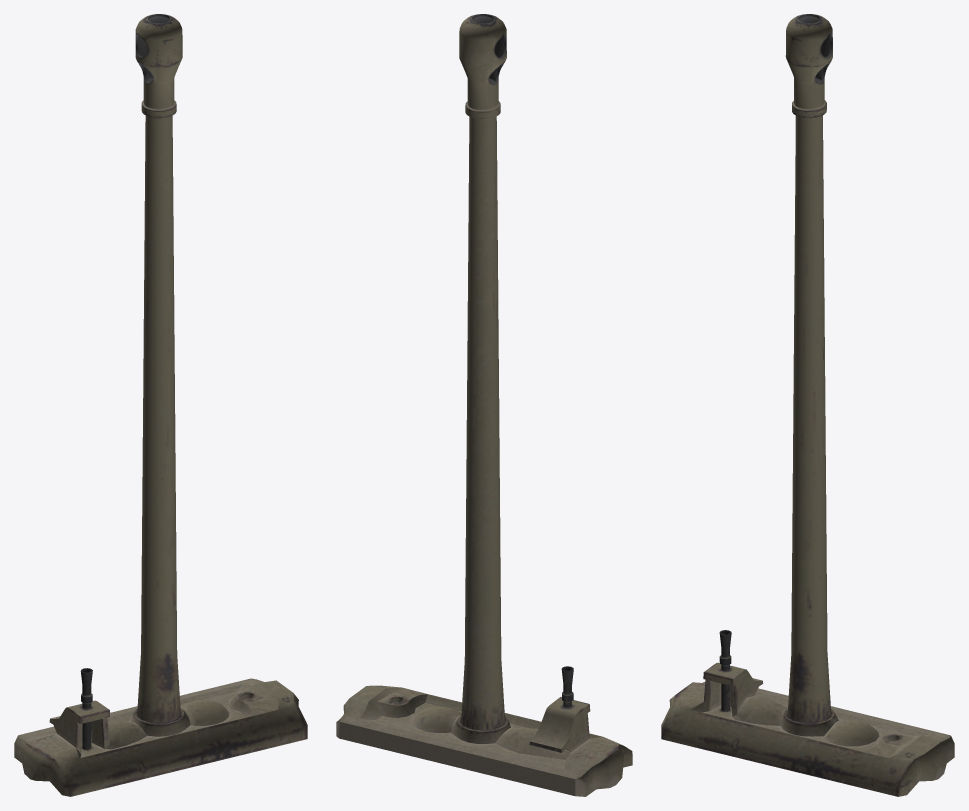
File: Gun_02.glb
The picture shows the model from 3 angles, left to right: view 1: azimuth 30°, elevation 25°; view 2: azimuth 150°, elevation 25°; view 3: azimuth 330°, elevation 25°; orthographic projection.
Visible parts, largest first — view 1: set_0_group_0; view 2: set_0_group_0; view 3: set_0_group_0.
Part boxes in pixels (x1,y1,x2,y2): set_0_group_0: (14,14,307,796); set_0_group_0: (336,14,632,796); set_0_group_0: (661,14,954,796).
Size of the model in its own units: 1.41 by 3.77 by 0.5184.
Materials: 1 (1 with a texture image).
